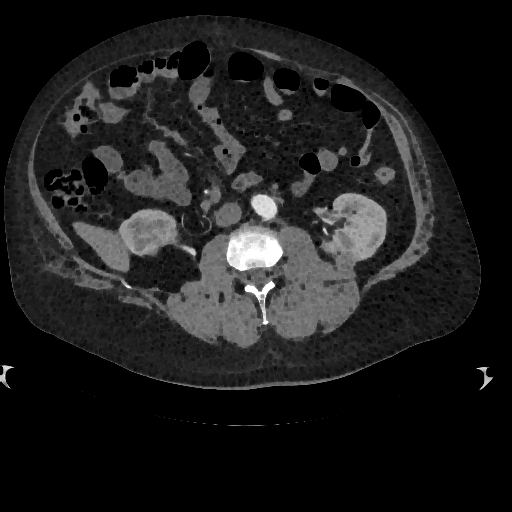Lesion: (332, 247, 357, 273)
